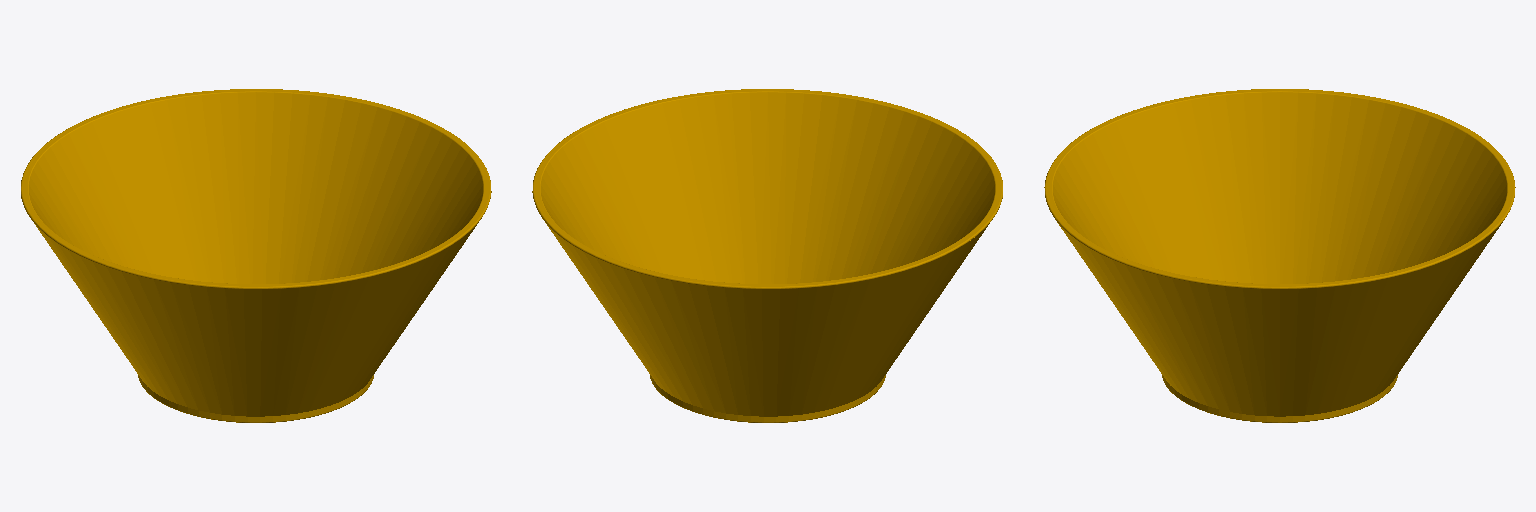
URDF robot description (fork):
<?xml version="1.0"?>
<robot name="fork">
  <link concave="yes" name="base_link">
    <visual>
      <!--<origin xyz="0 0 0" rpy="1.57 0 0" />-->
      <geometry>
        <mesh filename="new_bowl.obj" scale = "1 1 1"/>
      </geometry>
      <material name="brown">
        <color rgba="0.8 0.6 0 1.0" />
      </material>
    </visual>
    <collision concave="yes">
      <!--<origin xyz="0 0 0" rpy="1.57 0 0" />-->
      <geometry>
        <mesh filename="new_bowl.obj" scale = "1 1 1"/>
      </geometry>
    </collision>
   </link>
</robot>

--- What the picture shows (computed from the rendered views, not written in the file) ---
The picture shows the robot from 3 angles, left to right: view 1: azimuth 30°, elevation 25°; view 2: azimuth 150°, elevation 25°; view 3: azimuth 270°, elevation 25°; orthographic projection.
Model fork with 1 links and 0 joints (none), rooted at base_link, posed all joints at 0.
Visible links, largest first — view 1: base_link; view 2: base_link; view 3: base_link.
Link boxes in pixels (x1=…): base_link: x1=21, y1=89, x2=491, y2=422; base_link: x1=532, y1=89, x2=1002, y2=422; base_link: x1=1044, y1=89, x2=1515, y2=422.
Bounding box of the posed robot: 0.1516 × 0.1516 × 0.066 m (x, y, z).
Meshes: 1 distinct files referenced, 1 mesh visuals loaded (1 OBJ).